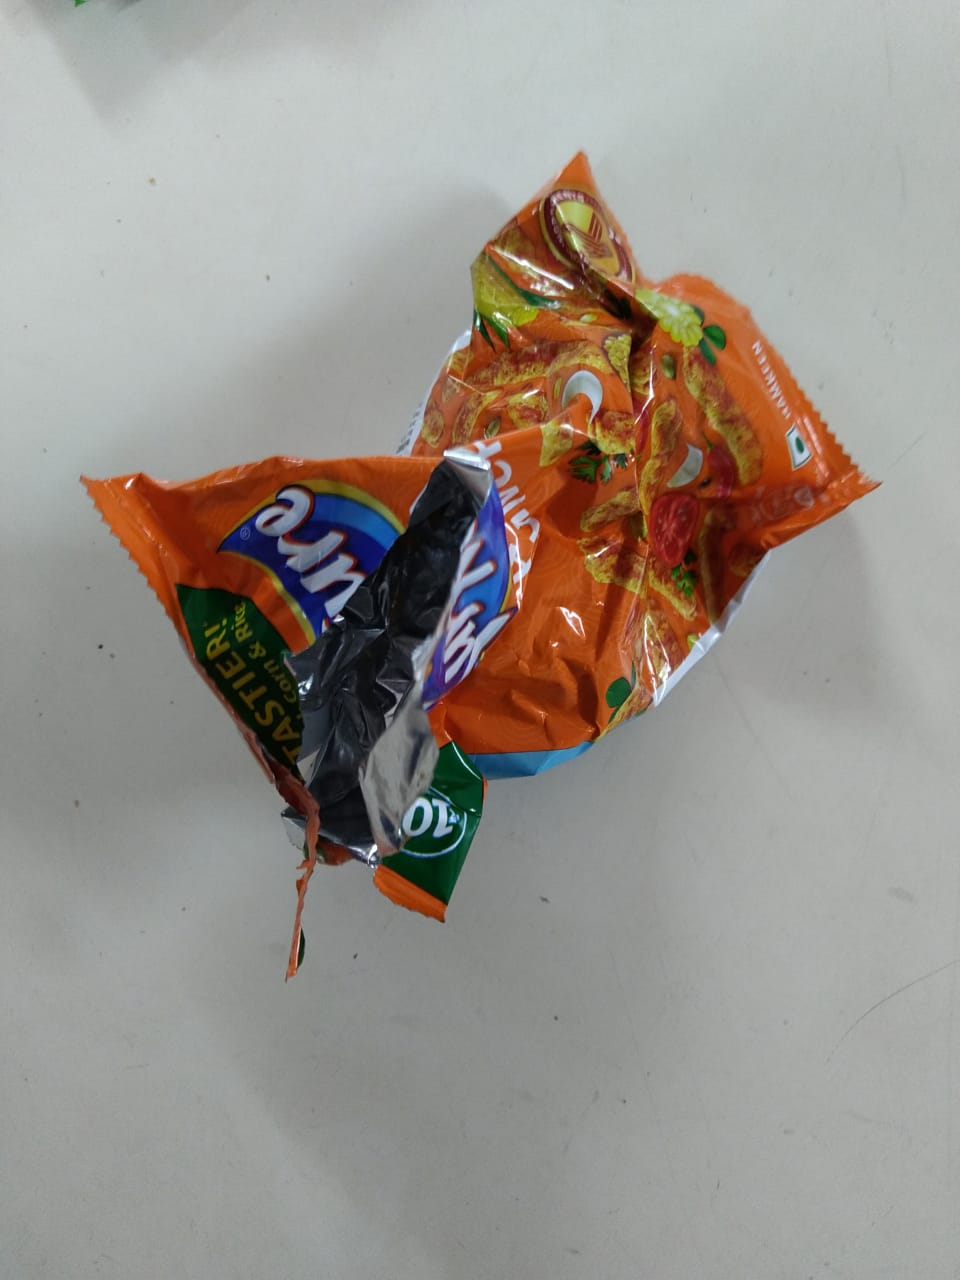kurkure: (223, 467, 502, 714), (288, 454, 527, 727), (198, 471, 537, 627), (225, 475, 421, 641), (408, 483, 523, 712)
plastic: (72, 136, 890, 953)
wrapper: (94, 201, 849, 965)
